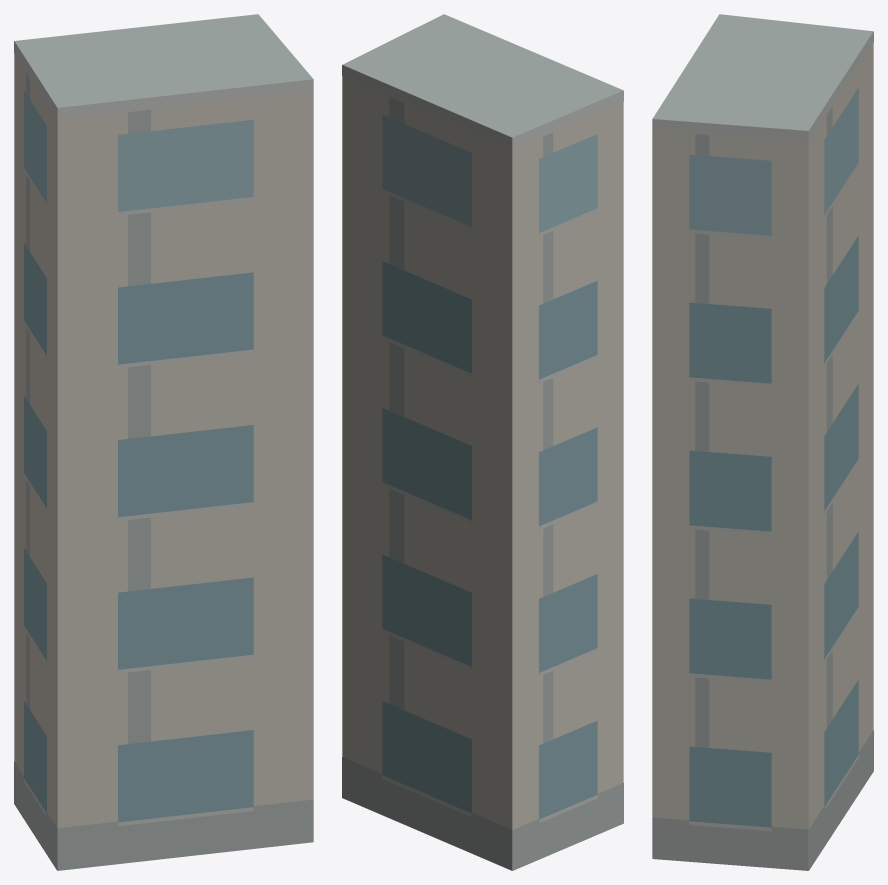
The model's file is survey-upis-33046055.glb.
3 views of the same model, side by side, from view 1: azimuth 30°, elevation 25°; view 2: azimuth 150°, elevation 25°; view 3: azimuth 270°, elevation 25° (orthographic). The views are drawn at different scales.
Parts seen in each view (by area): view 1: survey-upis-33046055.tmp; view 2: survey-upis-33046055.tmp; view 3: survey-upis-33046055.tmp.
Boxes of the visible parts, <box> form: survey-upis-33046055.tmp: <box>14,14,313,870</box>; survey-upis-33046055.tmp: <box>342,14,623,870</box>; survey-upis-33046055.tmp: <box>652,14,873,870</box>.
Bounding box in the file's own units: 5.18 × 15.25 × 4.14.
